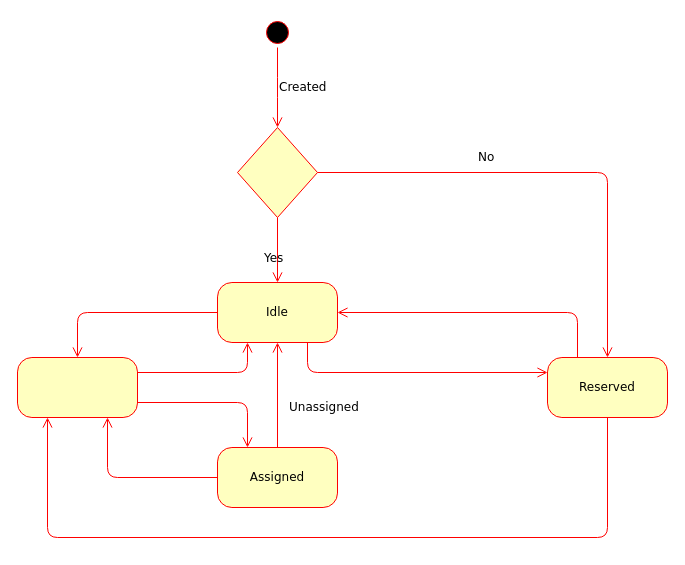
The diagram is 685 pixels wide and 565 high, and some of its shapes have lost their labels. Each missing label, with the centre of its shape:
"Blocked" belongs at [77,387].
"Is reserved" belongs at [277,172].
